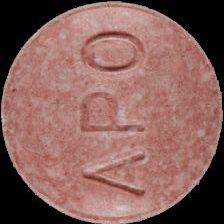54868-5503: (0, 0, 224, 224)
